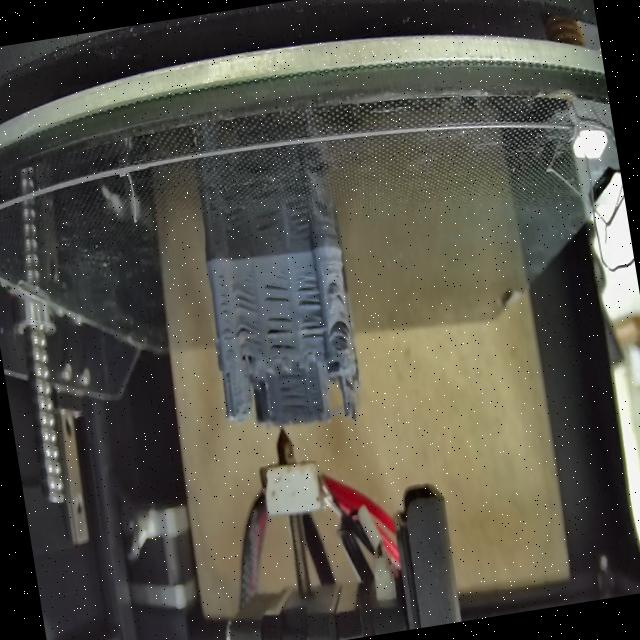cracks: (272, 368, 312, 422), (212, 274, 238, 350), (264, 314, 300, 358), (262, 271, 293, 309), (232, 281, 261, 314), (294, 276, 322, 310), (233, 316, 262, 346), (299, 316, 328, 346), (332, 292, 347, 310), (336, 326, 352, 342), (224, 368, 233, 387)
